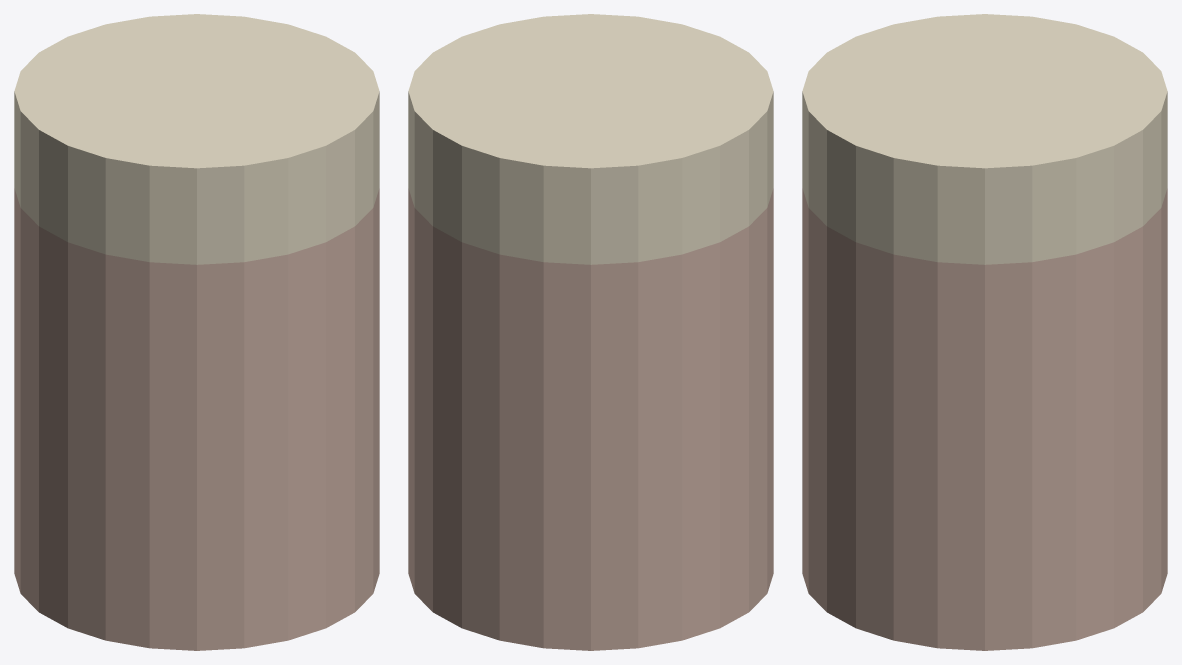
Rendered from content-compact-model.glb.
The picture shows the model from 3 angles, left to right: view 1: azimuth 30°, elevation 25°; view 2: azimuth 150°, elevation 25°; view 3: azimuth 270°, elevation 25°; orthographic projection.
Visible parts, largest first — view 1: storage-content-body, storage-content-cap; view 2: storage-content-body, storage-content-cap; view 3: storage-content-body, storage-content-cap.
Boxes of the visible parts, x1,y1,x2,y2 form: storage-content-body: (14, 188, 379, 650); storage-content-cap: (14, 14, 379, 264); storage-content-body: (408, 188, 773, 650); storage-content-cap: (408, 14, 773, 264); storage-content-body: (802, 188, 1167, 650); storage-content-cap: (802, 14, 1167, 264).
Size of the model in its own units: 0.024 by 0.035 by 0.024.
